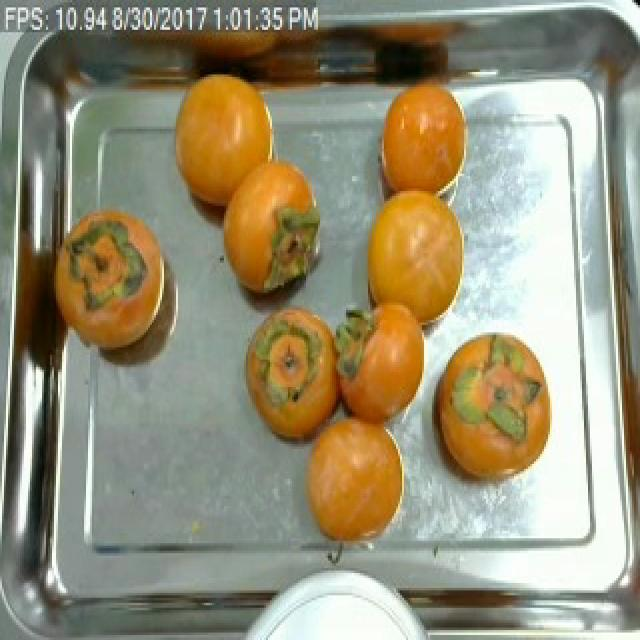Fruit: (424, 318, 562, 501), (194, 142, 332, 305), (290, 400, 422, 566), (162, 57, 290, 228), (354, 178, 476, 350), (234, 308, 352, 457), (366, 77, 478, 218)
